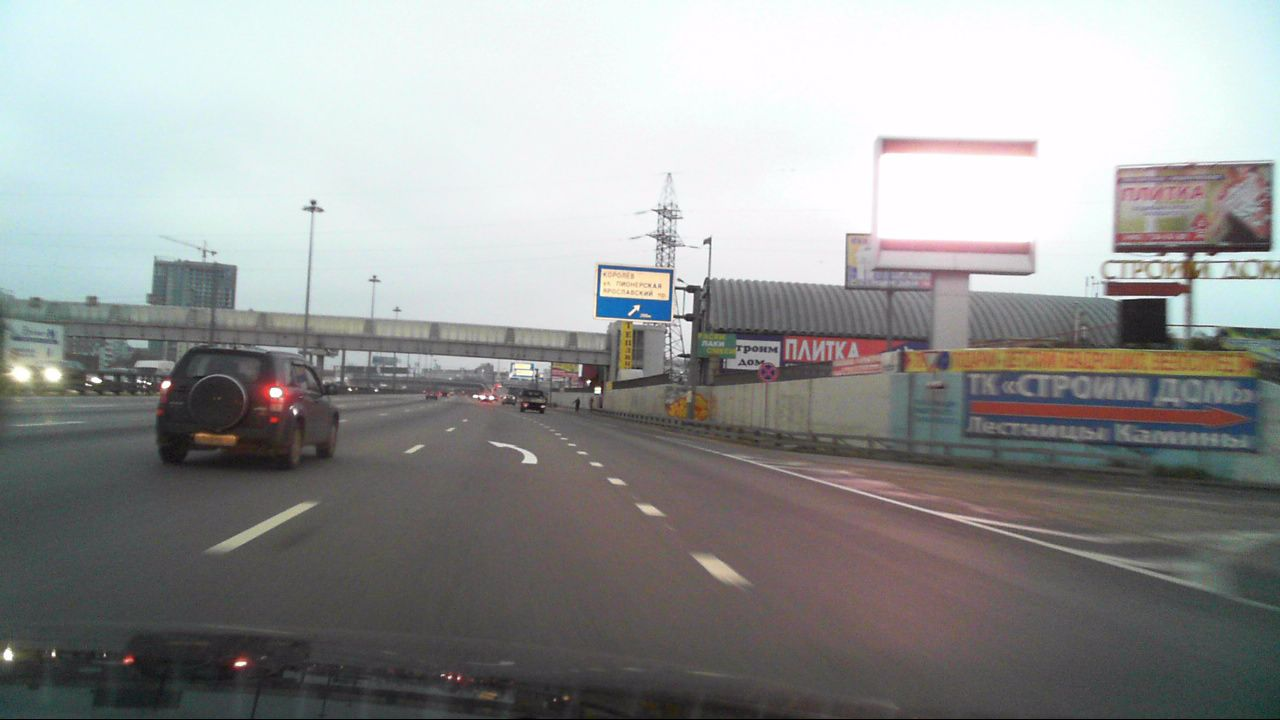No Parking: (758, 362, 778, 381)
